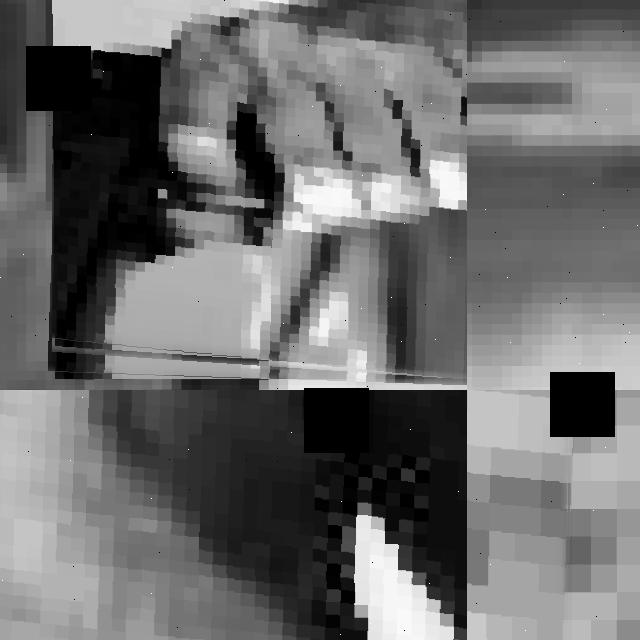arms: (52, 0, 467, 385), (0, 390, 467, 640), (467, 390, 572, 640)
